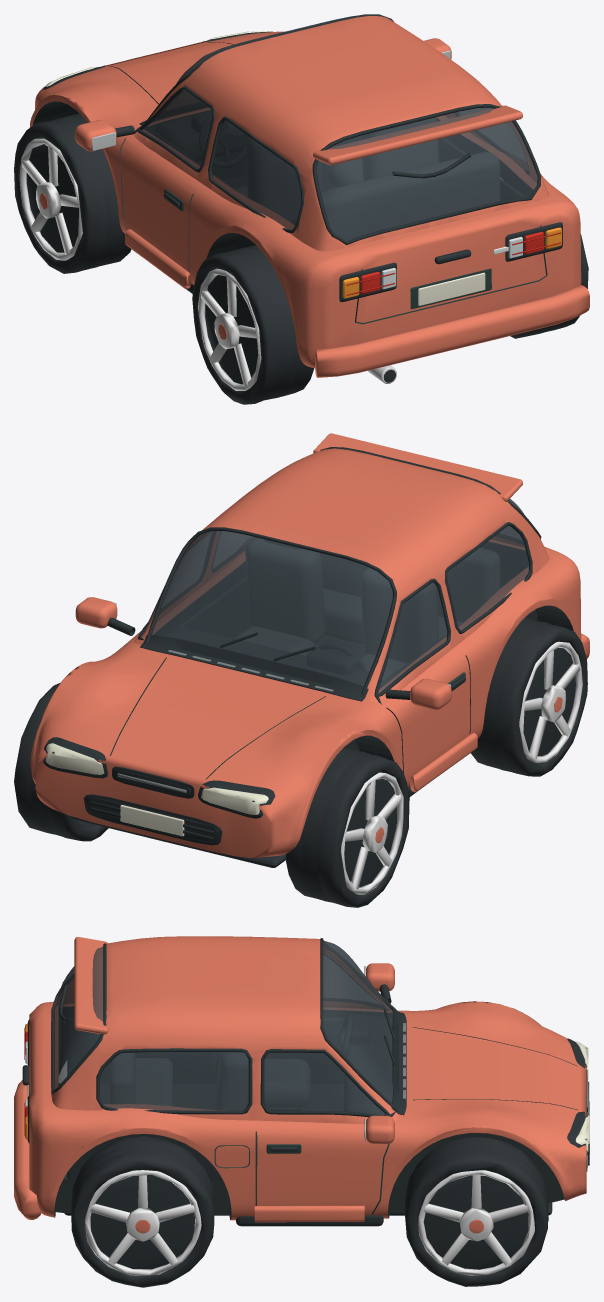
The model's file is tsubasa_lod2.fbx.
3 views of the same model, one above another, from view 1: azimuth 30°, elevation 25°; view 2: azimuth 150°, elevation 25°; view 3: azimuth 270°, elevation 25° (orthographic). The views are drawn at different scales.
Parts seen in each view (by area): view 1: Body, Wheel_RL_Mesh, Wheel_FL_Mesh, Wheel_RR_Mesh; view 2: Body, Wheel_FL_Mesh, Wheel_RL_Mesh, Wheel_FR_Mesh; view 3: Body, Wheel_RR_Mesh, Wheel_FR_Mesh.
Part boxes in pixels (bbox=[...]): Body: bbox=[29, 14, 589, 383]; Wheel_RL_Mesh: bbox=[192, 245, 313, 404]; Wheel_FL_Mesh: bbox=[14, 113, 131, 273]; Wheel_RR_Mesh: bbox=[510, 234, 588, 338]; Body: bbox=[30, 433, 589, 867]; Wheel_FL_Mesh: bbox=[286, 747, 409, 907]; Wheel_RL_Mesh: bbox=[471, 617, 587, 776]; Wheel_FR_Mesh: bbox=[14, 682, 108, 841]; Body: bbox=[14, 936, 589, 1226]; Wheel_RR_Mesh: bbox=[71, 1136, 214, 1287]; Wheel_FR_Mesh: bbox=[404, 1136, 548, 1286].
Bounding box in the file's own units: 230 × 157 × 335.
